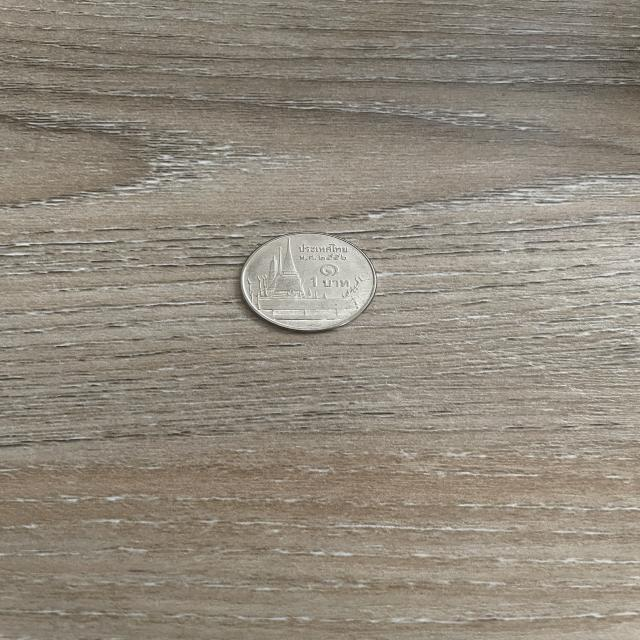1 Bath: (230, 227, 383, 338)
